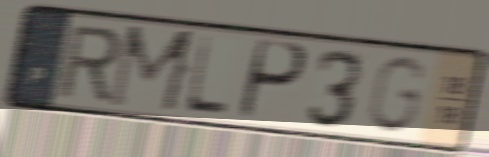3: (305, 46, 366, 130)
G: (363, 52, 431, 136)
L: (182, 32, 233, 119)
M: (103, 22, 201, 117)
P: (234, 36, 311, 124)
R: (54, 23, 125, 103)
